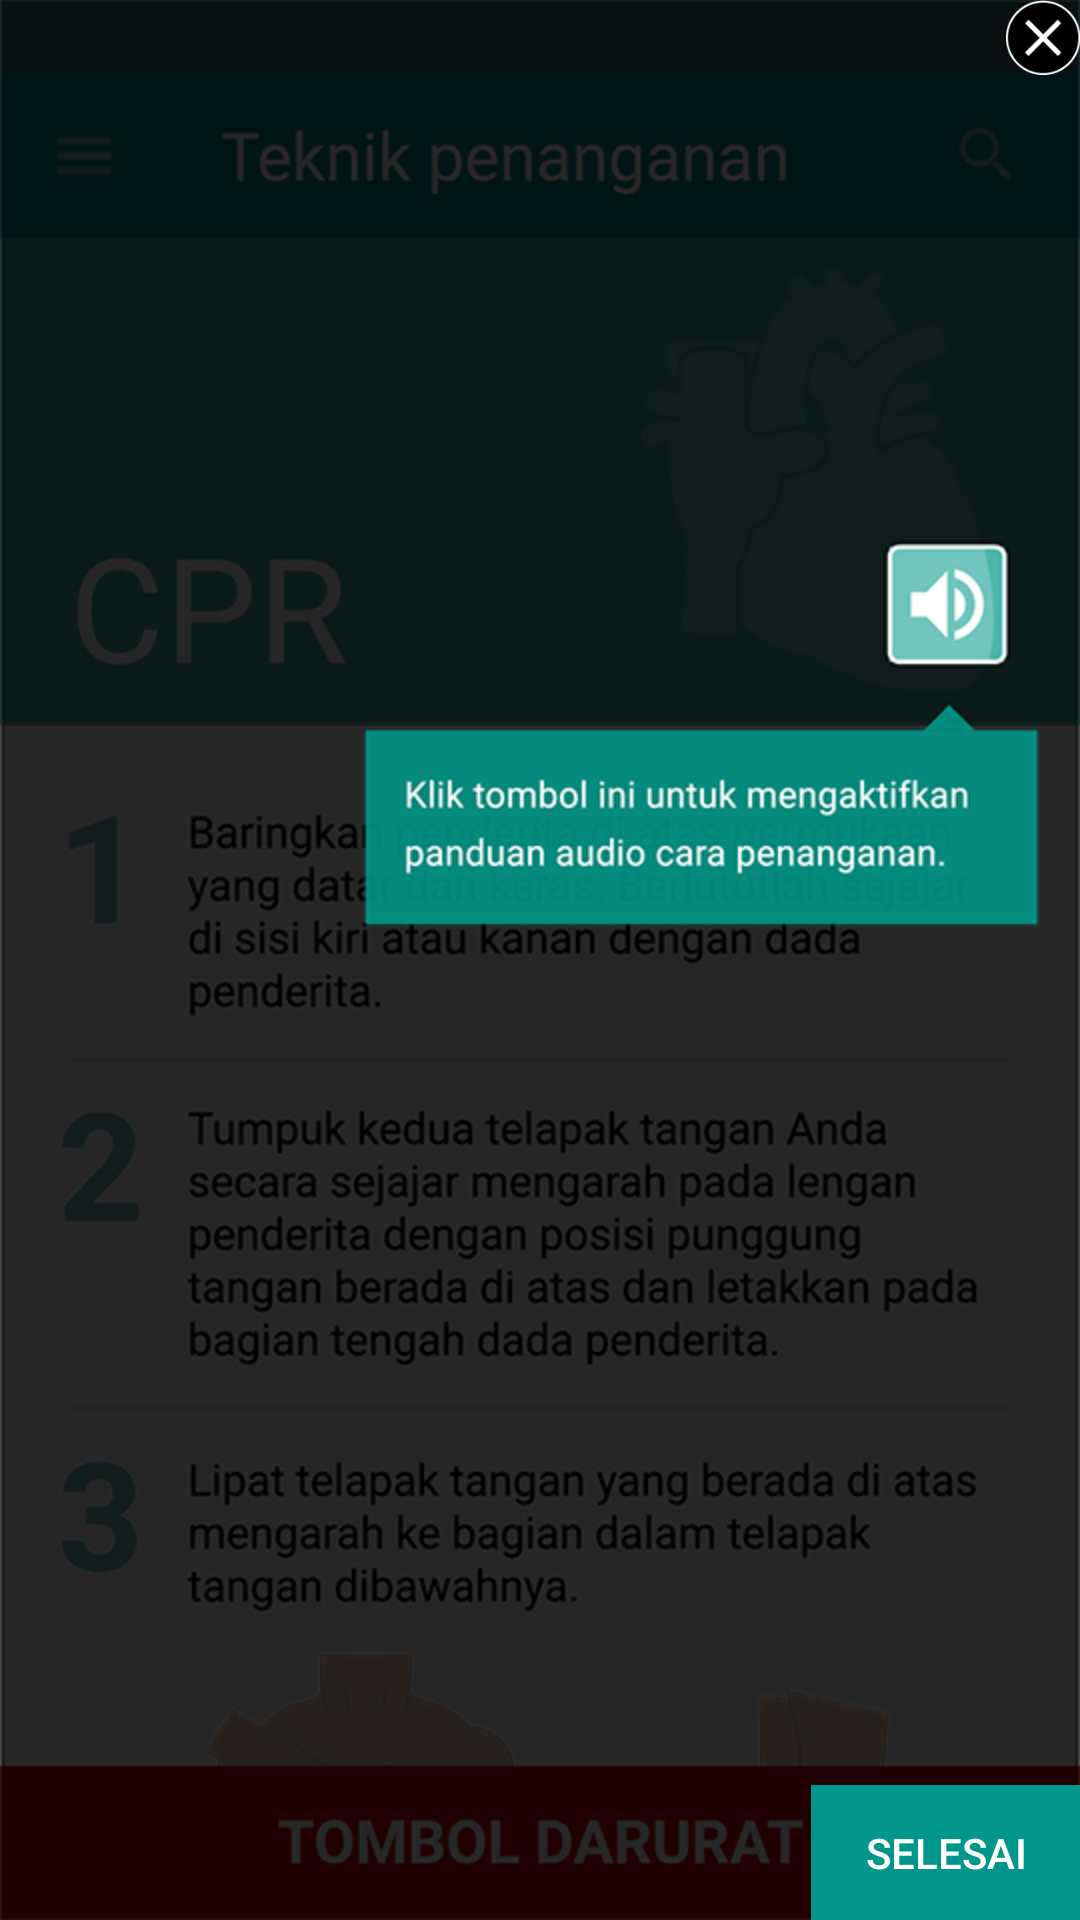

Named icons in this screenshot (1080 x 1920) and their bounding boxes, (x1, y1, x2, y2):
close tutorial: (1006, 0, 1080, 75)
